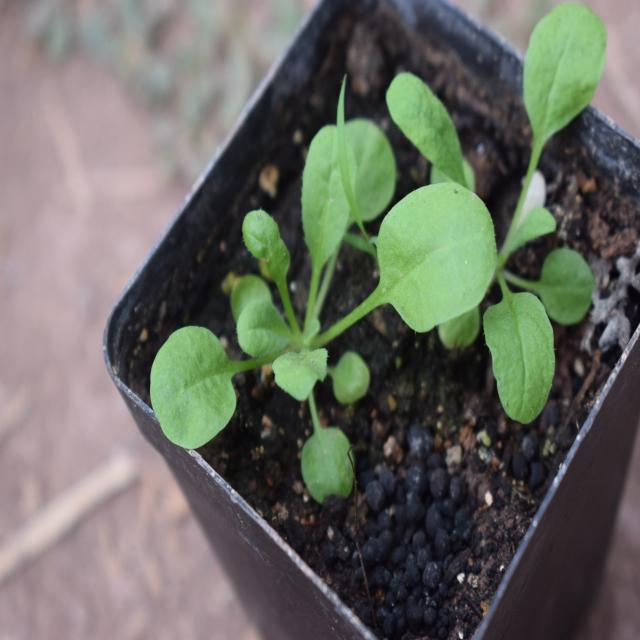Shepherd_Purse: (120, 110, 476, 474), (408, 13, 608, 395)
